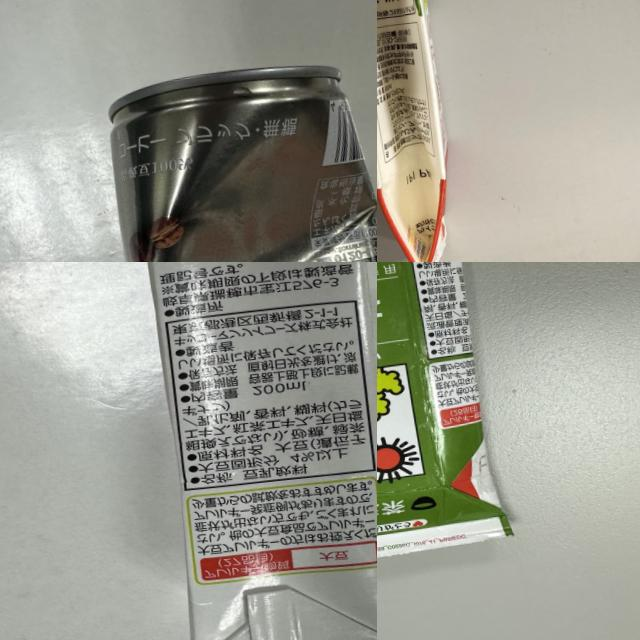Aluminium Foil: (134, 262, 377, 640), (377, 262, 503, 584), (377, 0, 468, 262)
Can: (101, 55, 377, 262)
